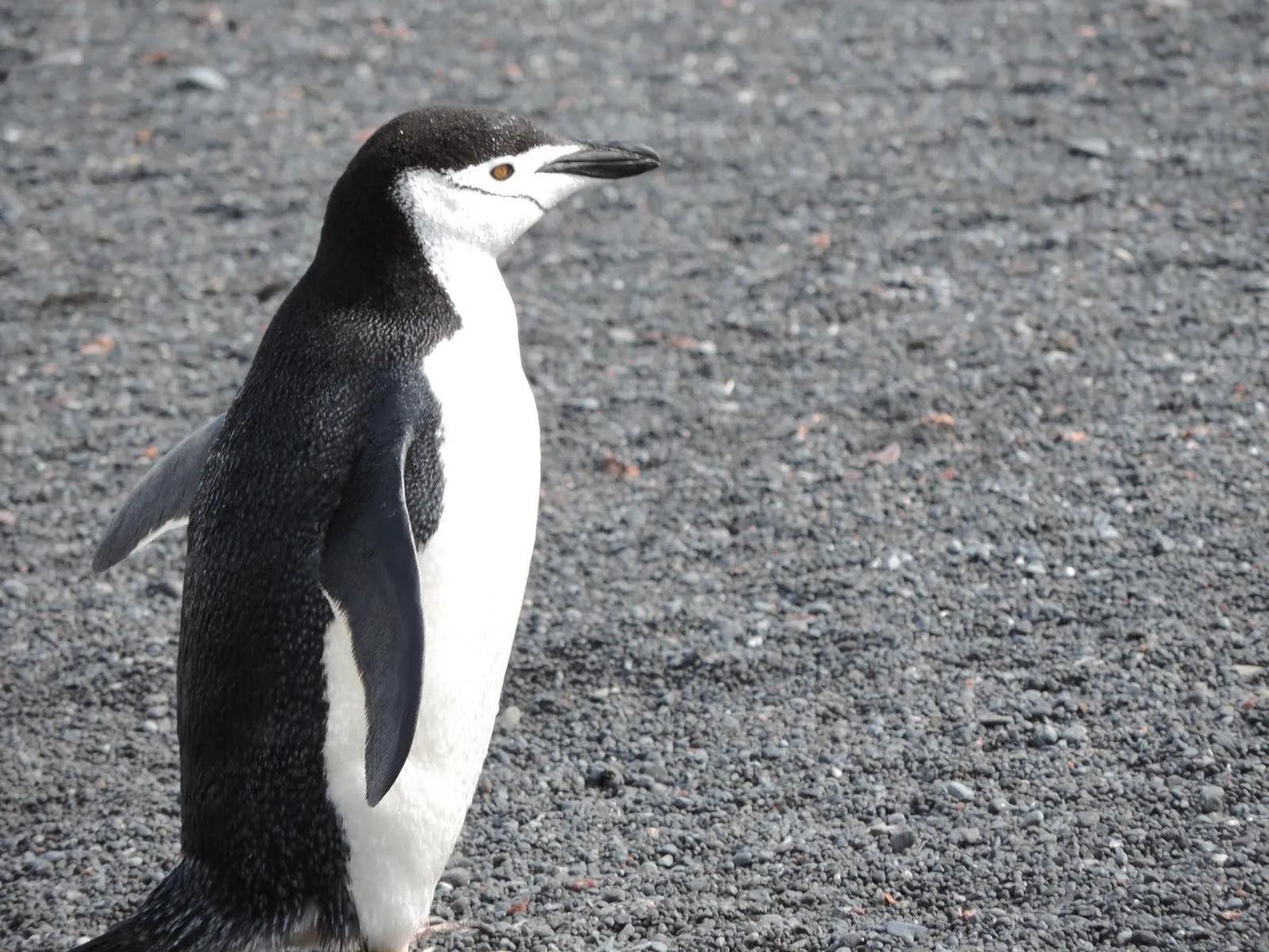Penguin: (82, 106, 659, 947)
